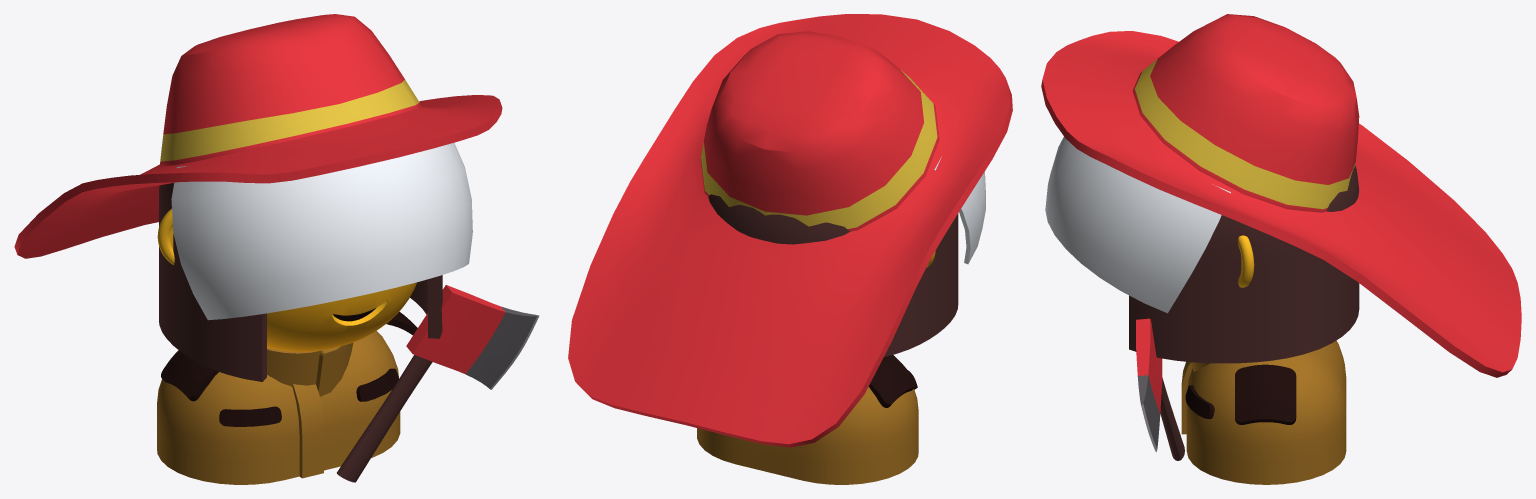
The model's file is Woman_Firefighter.gltf.
The picture shows the model from 3 angles, left to right: view 1: azimuth 30°, elevation 25°; view 2: azimuth 150°, elevation 25°; view 3: azimuth 270°, elevation 25°; orthographic projection. The views are drawn at different scales.
Parts seen in each view (by area): view 1: Plane.073, Sphere.111, Sphere.109, Cube.1773, Roundcube.142, Roundcube.141, Circle.769, Cube.1772, Sphere.110, Cylinder.117; view 2: Plane.073, Sphere.109, Roundcube.142, Cube.1772, Sphere.111; view 3: Plane.073, Roundcube.142, Sphere.111, Sphere.109, Cube.1772, Cube.1773, Cylinder.117, Sphere.110.
Part boxes in pixels (x1,y1,x2,y2): Plane.073: (14, 14, 502, 258); Sphere.111: (171, 143, 472, 320); Sphere.109: (157, 331, 400, 484); Cube.1773: (337, 285, 539, 482); Roundcube.142: (159, 183, 442, 381); Roundcube.141: (267, 282, 416, 351); Circle.769: (267, 343, 353, 396); Cube.1772: (161, 312, 417, 401); Sphere.110: (219, 368, 398, 426); Cylinder.117: (157, 208, 174, 264); Plane.073: (568, 14, 1012, 447); Sphere.109: (697, 387, 918, 484); Roundcube.142: (708, 194, 958, 356); Cube.1772: (868, 355, 915, 407); Sphere.111: (934, 156, 985, 264); Plane.073: (1041, 14, 1521, 377); Roundcube.142: (1129, 165, 1359, 363); Sphere.111: (1045, 136, 1230, 313); Sphere.109: (1181, 340, 1346, 484); Cube.1772: (1235, 364, 1296, 424); Cube.1773: (1136, 318, 1184, 460); Cylinder.117: (1238, 235, 1254, 287); Sphere.110: (1185, 385, 1214, 419).
Size of the model in its own units: 2.2 by 2.57 by 2.71.
10 materials, 2 textured.
